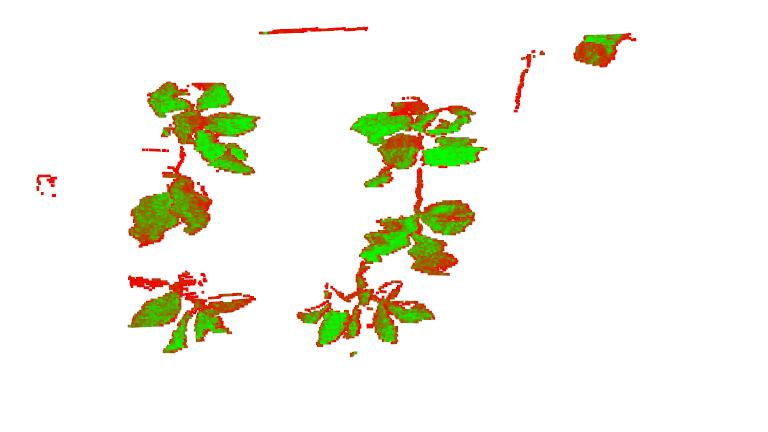mungbean: (348, 94, 489, 278), (128, 80, 259, 250), (297, 260, 437, 353), (126, 269, 258, 355)
